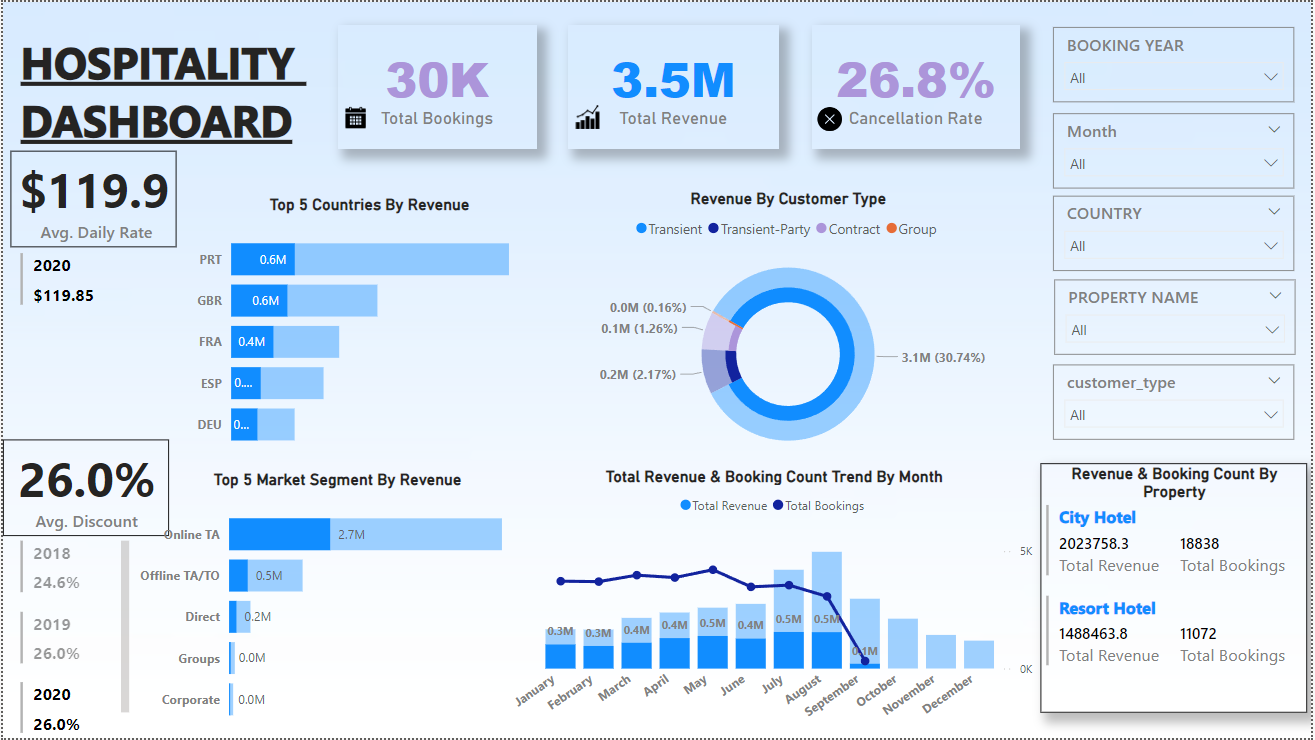

This screenshot's page, from the dashboard's own definition file:
{"tool":"powerbi","page":{"name":"Exec. Dashboard","canvas":[1280,720],"ordinal":0},"visuals":[{"type":"card","fields":{"Values":["Hotels_Booking_Data.Avg. Of ADR"]},"box":[7.3,128.4,162.6,94.2],"z":0},{"type":"multiRowCard","fields":{"Values":["Hotels_Booking_Data.Reservation_Status_Year","Hotels_Booking_Data.Avg. Of ADR"]},"box":[12.2,222.6,116.2,227.4],"z":1000},{"type":"card","fields":{"Values":["Hotels_Booking_Data.Avg. Of Discount"]},"box":[0,428,148,94.2],"z":2000},{"type":"multiRowCard","fields":{"Values":["Hotels_Booking_Data.Reservation_Status_Year","Hotels_Booking_Data.Avg. Of Discount"]},"box":[12.2,522.1,116.2,198.1],"z":3000},{"type":"card","fields":{"Values":["Hotels_Booking_Data.Total Bookings"]},"box":[327.2,22.4,194.1,121.9],"z":4000},{"type":"textbox","box":[12.2,0,315.5,128.4],"z":5000},{"type":"image","box":[327.2,98.3,34.8,31.1],"z":6000},{"type":"card","fields":{"Values":["Hotels_Booking_Data.Total Revenue"]},"box":[552.4,22.4,206.5,121.9],"z":7000},{"type":"image","box":[552.4,95.8,38.6,33.6],"z":8000},{"type":"card","fields":{"Values":["Hotels_Booking_Data.Cancellation Rate"]},"box":[791.3,22.4,204,121.9],"z":9000},{"type":"image","box":[791.3,95.8,35,39],"z":10000},{"type":"pieChart","title":"Top 5 Market Segment By Revenue","fields":{"Category":["Hotels_Booking_Data.market_segment"],"Y":["Hotels_Booking_Data.Total Revenue"]},"box":[127.8,458.3,398,261.7],"z":11000},{"type":"barChart","title":"Top 5 Countries By Revenue","fields":{"Y":["Hotels_Booking_Data.Total Revenue"],"Category":["Hotels_Booking_Data.country"]},"box":[183.3,189.5,350.3,261.8],"z":12000},{"type":"stackedAreaChart","title":"Total Revenue & Booking Count Trend By Month","fields":{"Category":["Hotels_Booking_Data.reservation_status_date.Variation.Date Hierarchy.Month"],"Y":["Hotels_Booking_Data.Total Revenue","Hotels_Booking_Data.Total Bookings"]},"box":[494.5,454.7,521,265.3],"z":13000},{"type":"donutChart","title":"Revenue By Customer Type","fields":{"Y":["Hotels_Booking_Data.Total Revenue"],"Category":["Hotels_Booking_Data.customer_type"]},"box":[521,183.3,494.5,275],"z":14000},{"type":"multiRowCard","title":"Revenue & Booking Count By Property","fields":{"Values":["Hotels_Booking_Data.hotel","Hotels_Booking_Data.Total Revenue","Hotels_Booking_Data.Total Bookings"]},"box":[1015.5,451.1,260.5,243.6],"z":15000},{"type":"slicer","fields":{"Values":["Hotels_Booking_Data.Reservation_Status_Year"]},"box":[1027.7,25,236.3,73.8],"z":16000},{"type":"slicer","fields":{"Values":["Hotels_Booking_Data.country"]},"box":[1027.7,190,236.3,73.8],"z":17000},{"type":"slicer","fields":{"Values":["Hotels_Booking_Data.hotel"]},"box":[1029,271.3,236.3,73.8],"z":18000},{"type":"slicer","fields":{"Values":["Hotels_Booking_Data.reservation_status_date.Variation.Date Hierarchy.Month"]},"box":[1027.7,108.8,236.3,73.8],"z":19000},{"type":"slicer","fields":{"Values":["Hotels_Booking_Data.customer_type"]},"box":[1027.7,355.1,236.3,73.8],"z":20000}]}

Visuals, with their boxes in screenshot pixels (x1, y1, x2, y2), scaled from the page's 1280x720 canvas onto the 1315x740 screenshot:
card - Hotels_Booking_Data.Avg. Of ADR: left=7, top=132, right=175, bottom=229
multiRowCard - Hotels_Booking_Data.Reservation_Status_Year x Hotels_Booking_Data.Avg. Of ADR: left=13, top=229, right=132, bottom=462
card - Hotels_Booking_Data.Avg. Of Discount: left=0, top=440, right=152, bottom=537
multiRowCard - Hotels_Booking_Data.Reservation_Status_Year x Hotels_Booking_Data.Avg. Of Discount: left=13, top=537, right=132, bottom=739
card - Hotels_Booking_Data.Total Bookings: left=336, top=23, right=536, bottom=148
textbox: left=13, top=0, right=337, bottom=132
image: left=336, top=101, right=372, bottom=133
card - Hotels_Booking_Data.Total Revenue: left=568, top=23, right=780, bottom=148
image: left=568, top=98, right=607, bottom=133
card - Hotels_Booking_Data.Cancellation Rate: left=813, top=23, right=1023, bottom=148
image: left=813, top=98, right=849, bottom=139
"Top 5 Market Segment By Revenue" pieChart: left=131, top=471, right=540, bottom=739
"Top 5 Countries By Revenue" barChart: left=188, top=195, right=548, bottom=464
"Total Revenue & Booking Count Trend By Month" stackedAreaChart: left=508, top=467, right=1043, bottom=739
"Revenue By Customer Type" donutChart: left=535, top=188, right=1043, bottom=471
"Revenue & Booking Count By Property" multiRowCard: left=1043, top=464, right=1311, bottom=714
slicer - Hotels_Booking_Data.Reservation_Status_Year: left=1056, top=26, right=1299, bottom=102
slicer - Hotels_Booking_Data.country: left=1056, top=195, right=1299, bottom=271
slicer - Hotels_Booking_Data.hotel: left=1057, top=279, right=1300, bottom=355
slicer - Hotels_Booking_Data.reservation_status_date.Variation.Date Hierarchy.Month: left=1056, top=112, right=1299, bottom=188
slicer - Hotels_Booking_Data.customer_type: left=1056, top=365, right=1299, bottom=441
